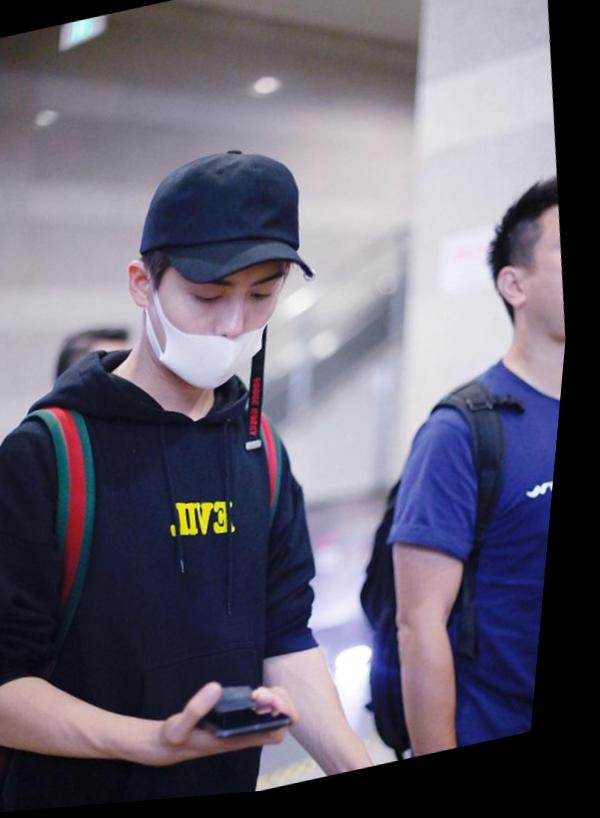WRONG: (158, 253, 302, 402)
